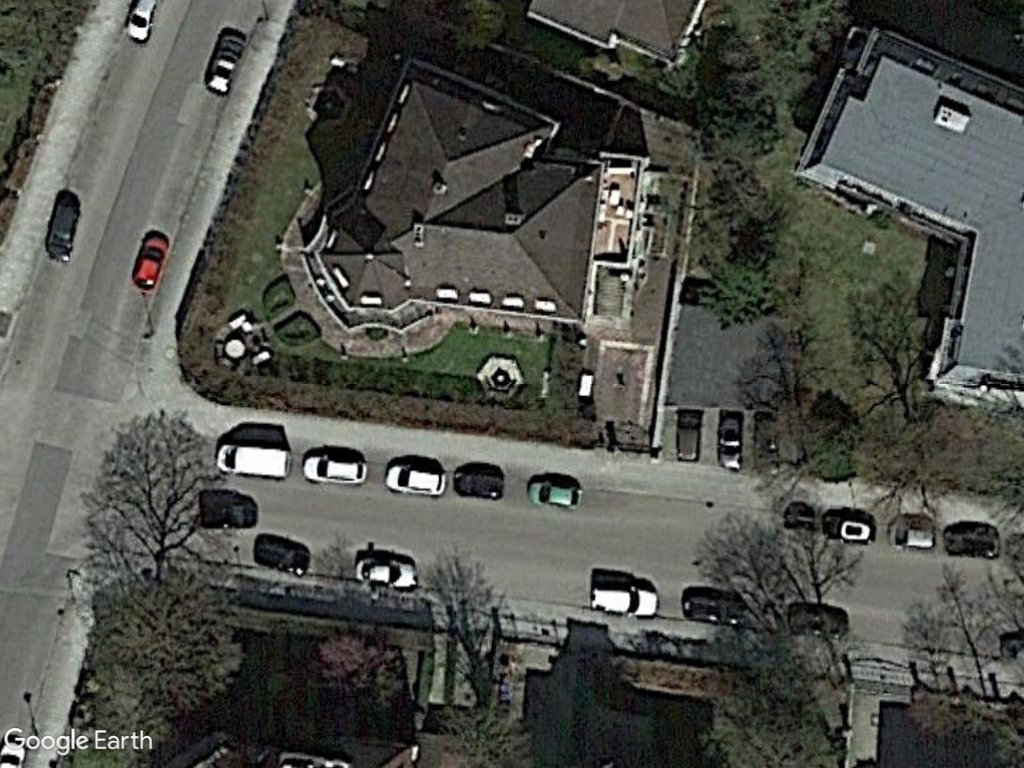car: (585, 579, 663, 620), (129, 229, 171, 293), (382, 460, 450, 498), (351, 557, 422, 591), (298, 452, 371, 485), (523, 478, 586, 511)
van: (211, 440, 295, 482)
